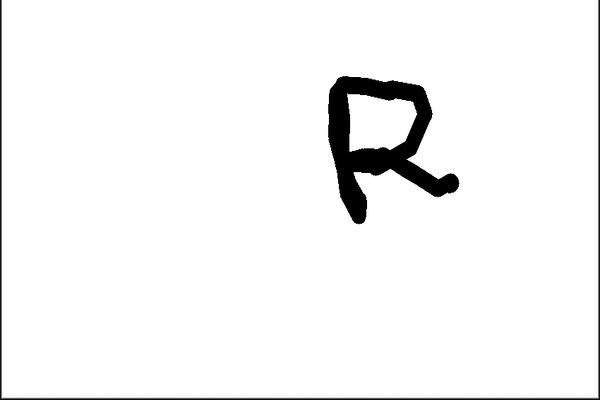R: (320, 67, 474, 231)
